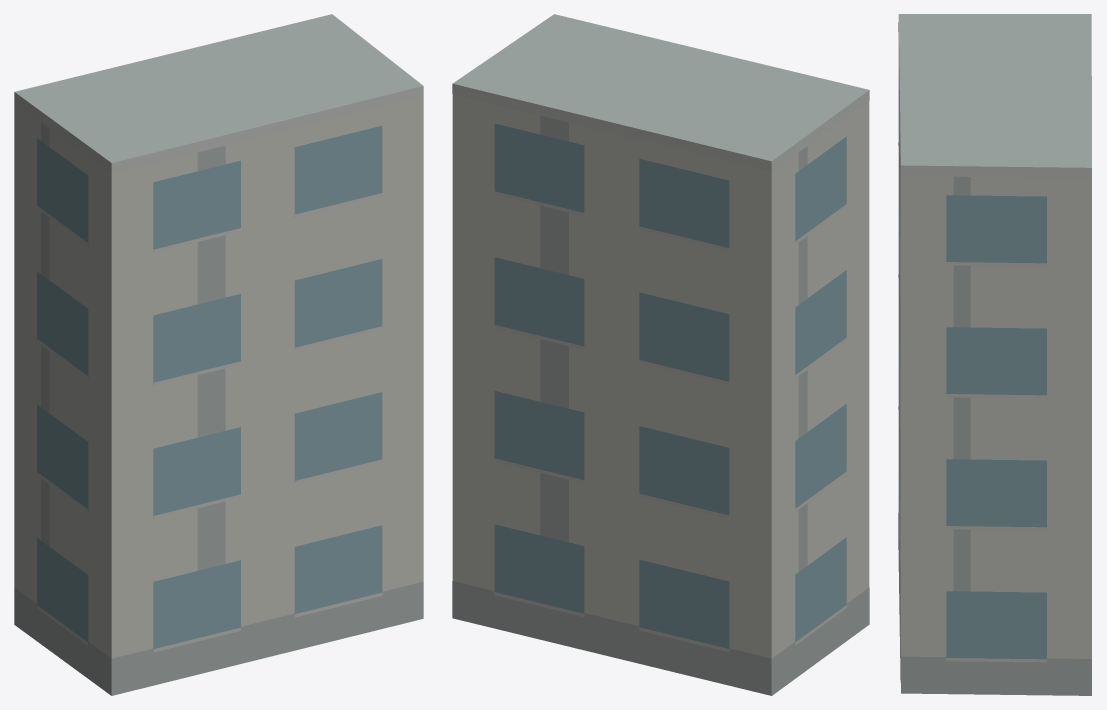
File: survey-upis-32968288.glb
The picture shows the model from 3 angles, left to right: view 1: azimuth 30°, elevation 25°; view 2: azimuth 150°, elevation 25°; view 3: azimuth 270°, elevation 25°; orthographic projection.
Visible parts, largest first — view 1: survey-upis-32968288.tmp; view 2: survey-upis-32968288.tmp; view 3: survey-upis-32968288.tmp.
Part boxes in pixels (x1,y1,x2,y2): survey-upis-32968288.tmp: (14,14,423,695); survey-upis-32968288.tmp: (452,14,869,695); survey-upis-32968288.tmp: (898,14,1091,695).
Bounding box in the file's own units: 7.64 × 12.2 × 4.07.
